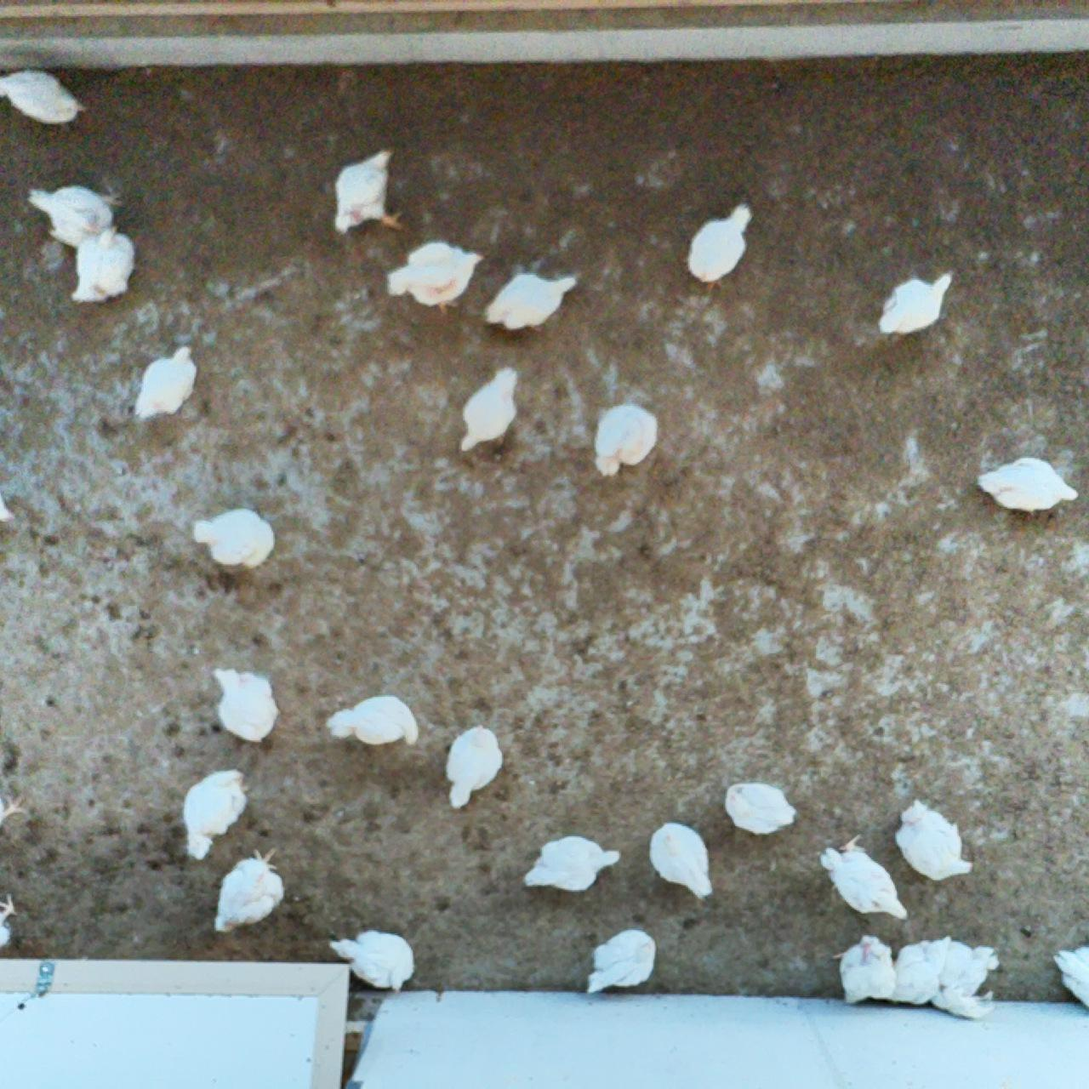chicken: (815, 830, 918, 929), (381, 238, 485, 319), (971, 450, 1082, 525), (329, 144, 408, 247), (211, 838, 290, 941), (892, 798, 981, 887), (683, 195, 756, 300), (482, 266, 582, 340), (66, 218, 141, 316), (874, 265, 961, 349), (180, 767, 253, 867), (452, 363, 528, 459), (23, 177, 128, 246), (325, 921, 418, 997), (928, 937, 1006, 1024), (589, 400, 667, 487), (519, 831, 622, 896), (189, 501, 280, 574), (208, 663, 279, 756), (645, 818, 719, 905), (328, 688, 424, 755), (130, 341, 203, 429), (443, 720, 507, 816), (0, 66, 92, 132), (828, 929, 900, 1009), (586, 924, 662, 998), (886, 932, 954, 1009), (719, 778, 798, 835), (1046, 941, 1089, 1011)
